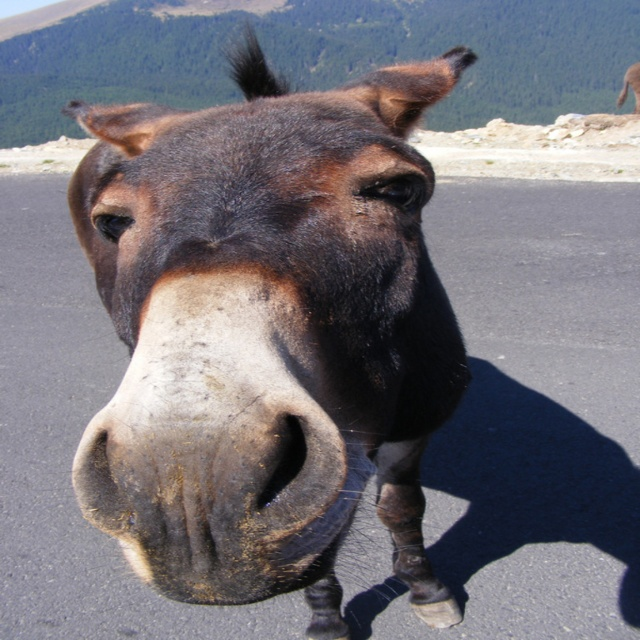Mule: (46, 21, 531, 640)
